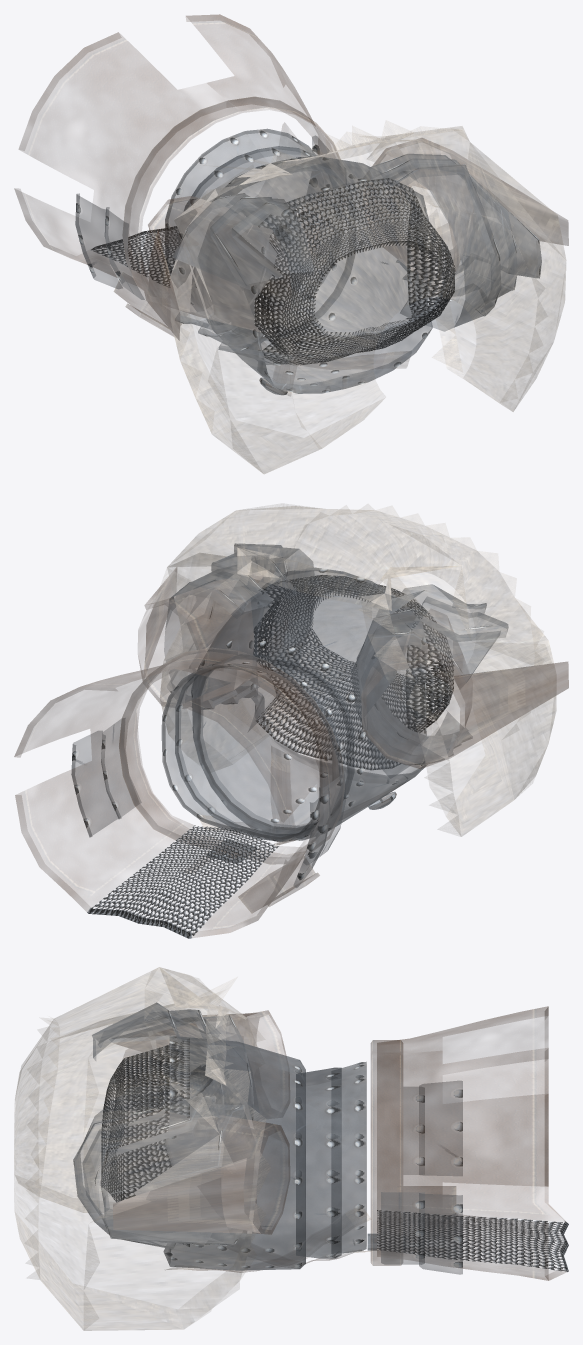
Rendered from cuirasse_acier_nordique.glb.
The picture shows the model from 3 angles, top to bottom: view 1: azimuth 30°, elevation 25°; view 2: azimuth 150°, elevation 25°; view 3: azimuth 270°, elevation 25°; orthographic projection. The views are drawn at different scales.
Visible parts, largest first — view 1: cuirasse_acier_nordique.001; view 2: cuirasse_acier_nordique.001; view 3: cuirasse_acier_nordique.001.
Boxes of the visible parts, box(x1,y1,x2,y2) form: cuirasse_acier_nordique.001: box(14, 14, 568, 473); cuirasse_acier_nordique.001: box(14, 504, 568, 938); cuirasse_acier_nordique.001: box(14, 967, 568, 1330).
Size of the model in its own units: 0.8717 by 0.6057 by 1.1.
Materials: 4 (4 with a texture image).
